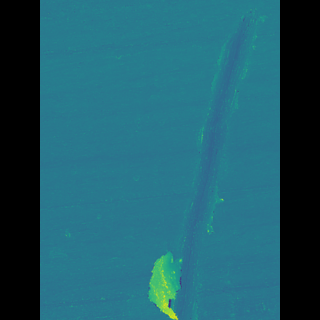Loch: (147, 2, 237, 320), (148, 243, 179, 320)
